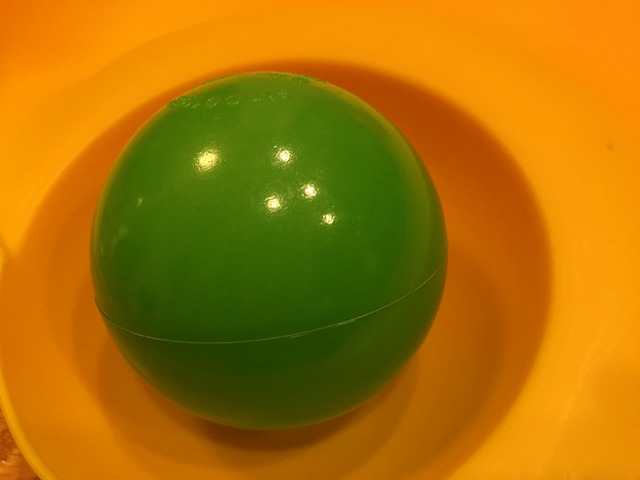Ball: (87, 74, 445, 427)
